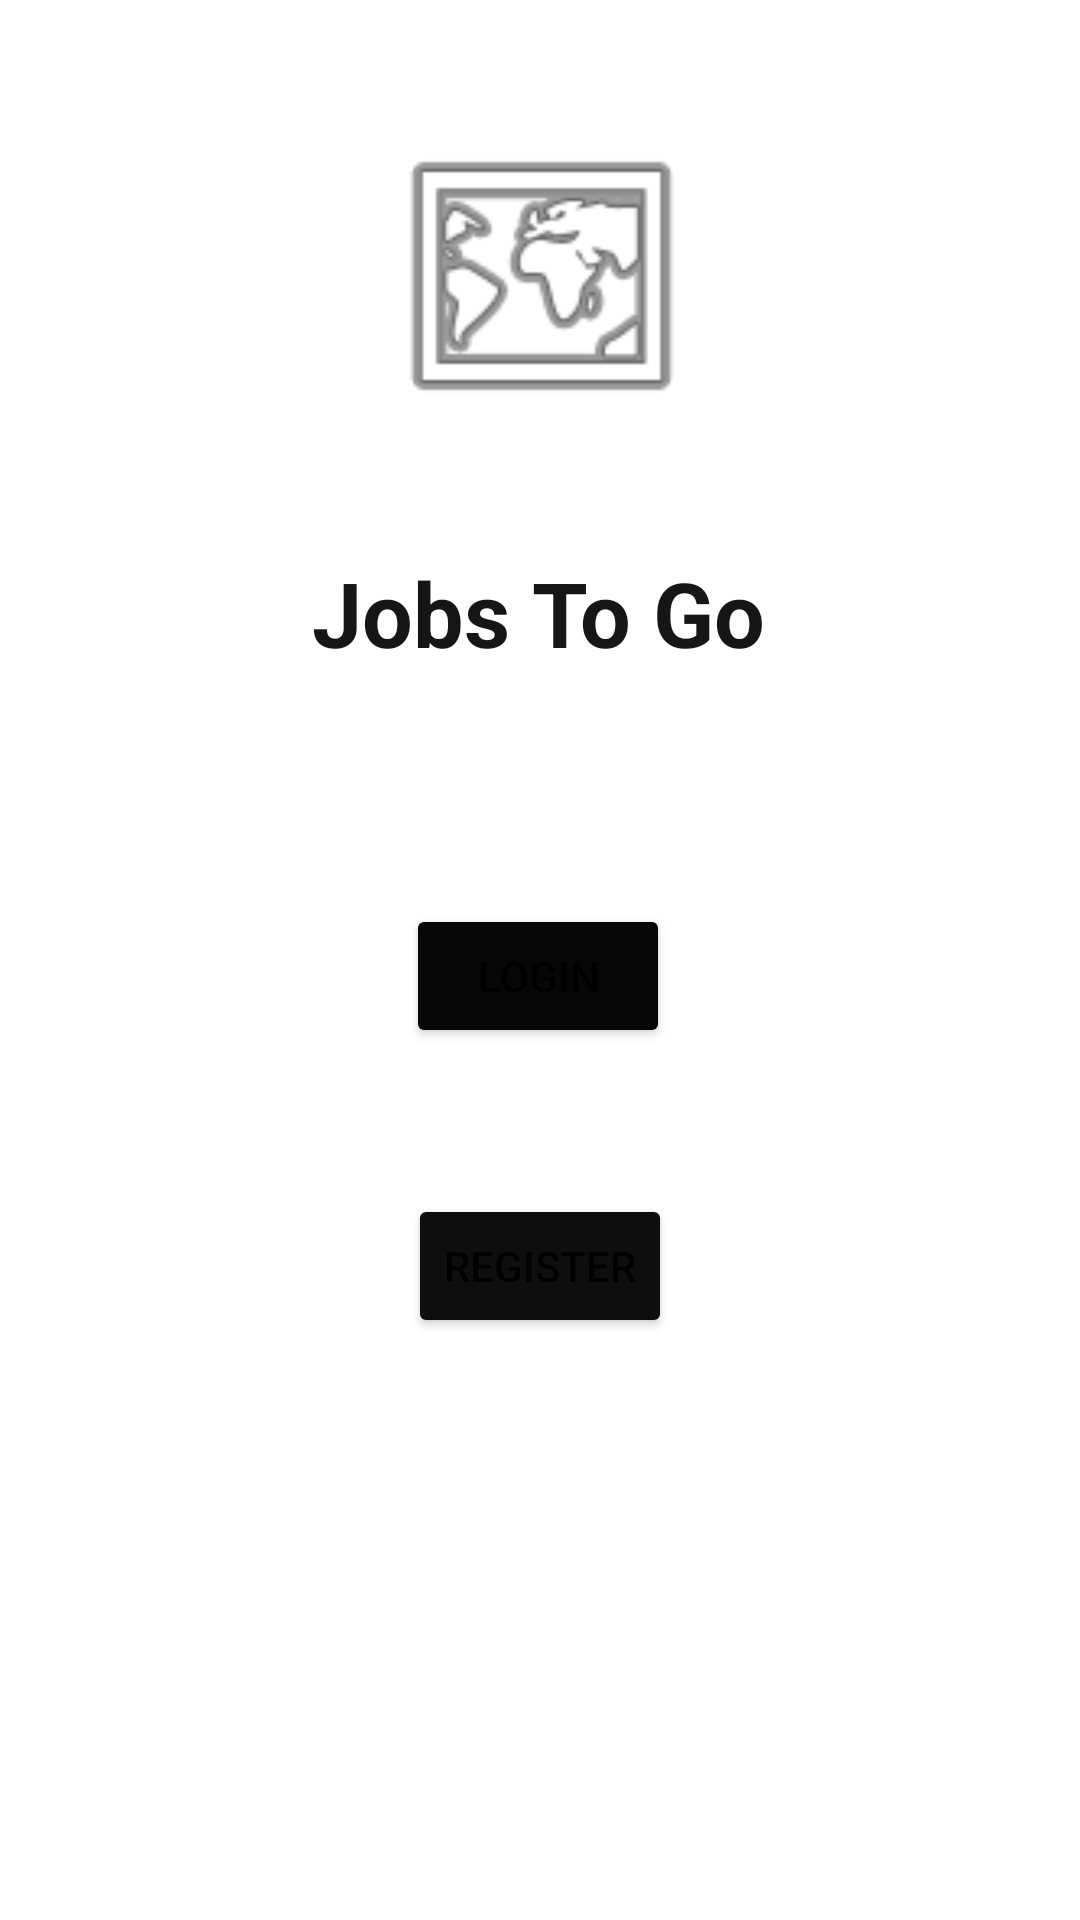

Screen size 1080px×1920px. Icon name, then its box in pixels as {"x1": x1, "y1": y1, "x2": x2, "y2": y2}:
earth: {"x1": 411, "y1": 161, "x2": 672, "y2": 391}
